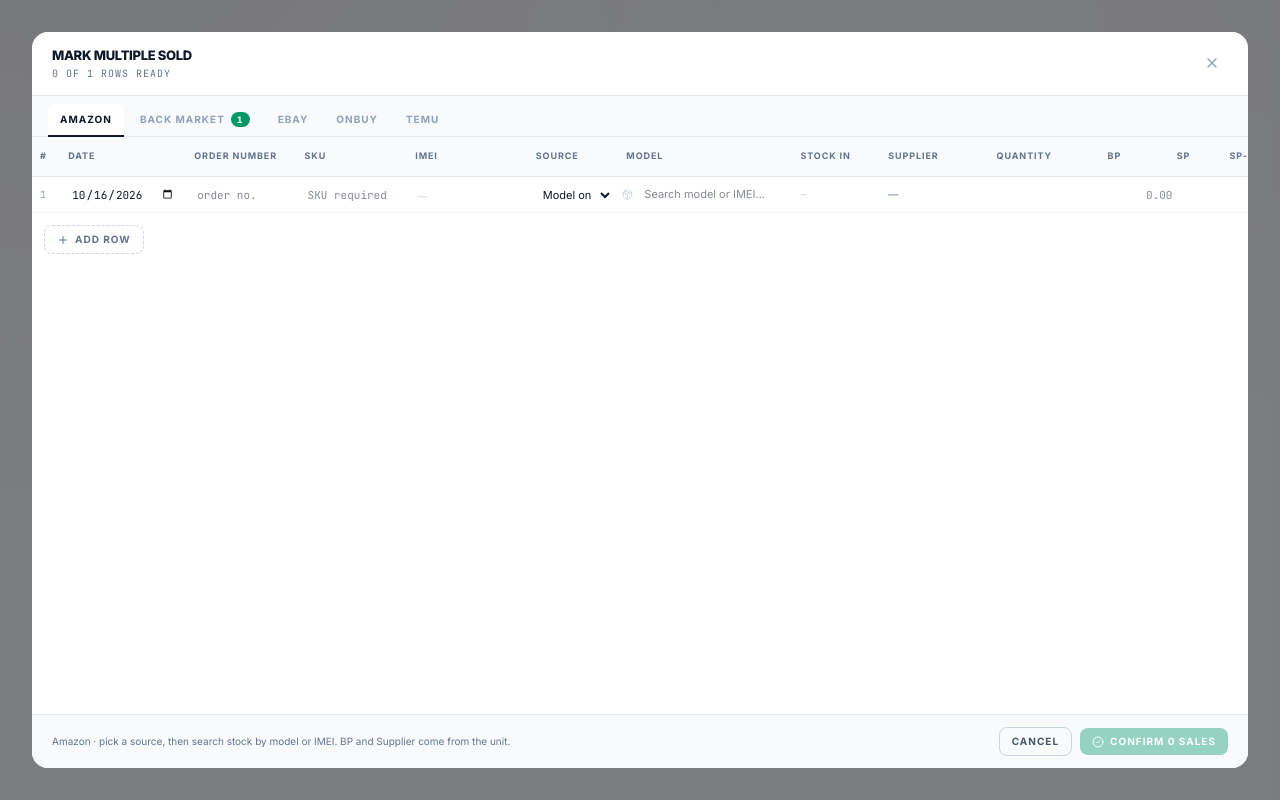
Scenario: the sale date is the operator's, and it leads the row › shows the payment mode team 1 recorded
Click the tab "Back Market1": (195, 120) [128,104,262,136]
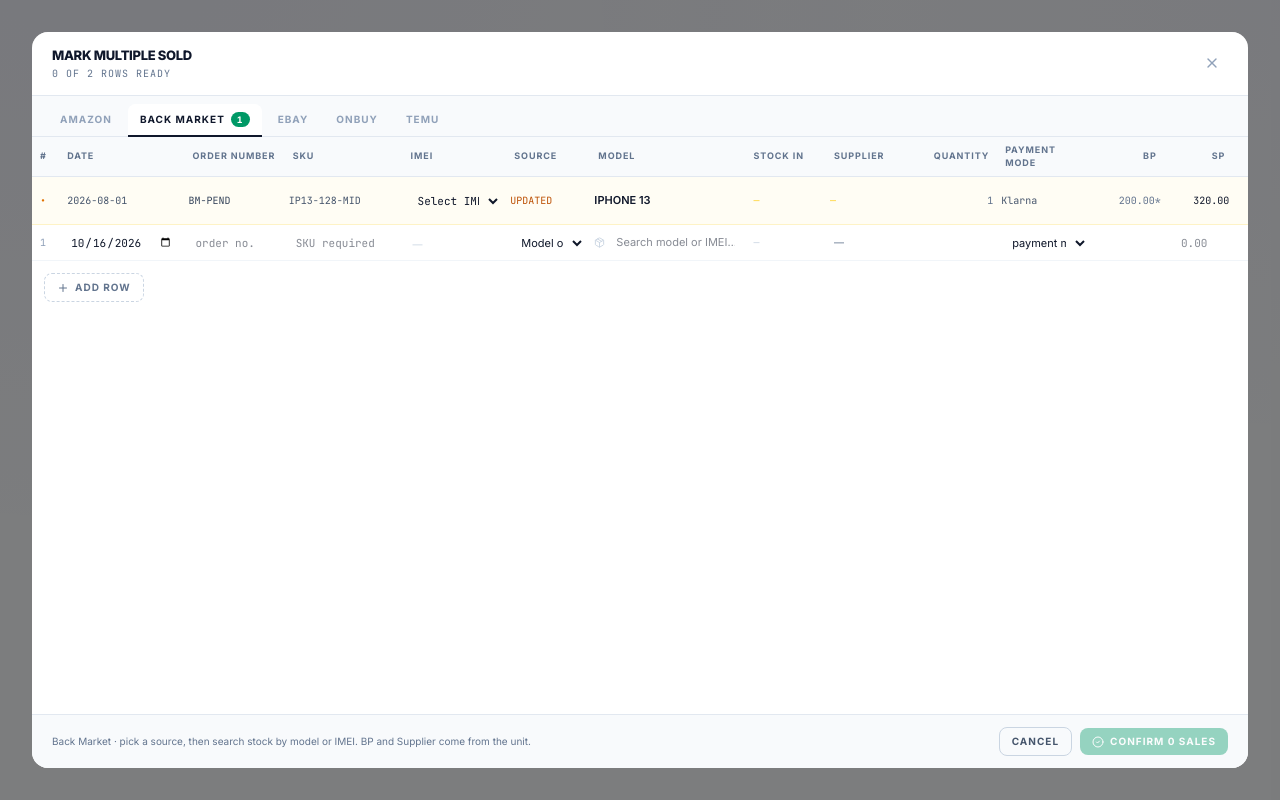
Result: the cell "Klarna" is shown at [997,176,1093,224]
